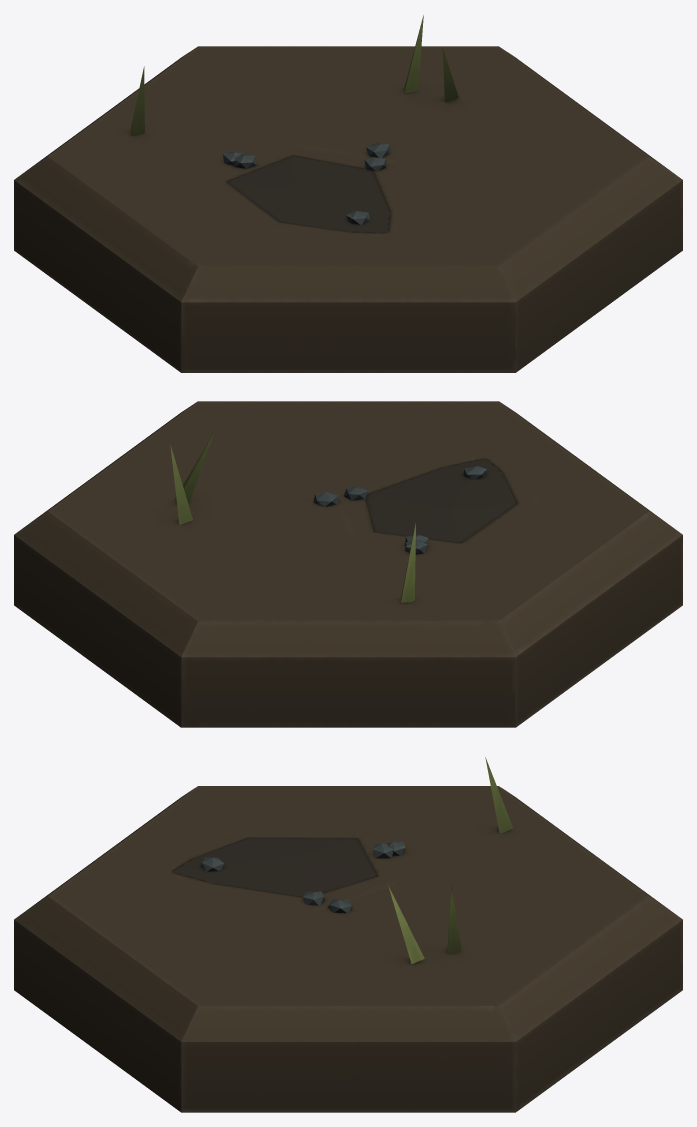
File: tile_hex_mud_c.glb
3 views of the same model, one above another, from view 1: azimuth 30°, elevation 25°; view 2: azimuth 150°, elevation 25°; view 3: azimuth 270°, elevation 25° (orthographic).
Parts seen in each view (by area): view 1: tile_hex_mud_c; view 2: tile_hex_mud_c; view 3: tile_hex_mud_c.
Part boxes in pixels (bbox=[...]): tile_hex_mud_c: bbox=[14, 15, 682, 372]; tile_hex_mud_c: bbox=[14, 401, 682, 727]; tile_hex_mud_c: bbox=[14, 757, 682, 1112].
Size of the model in its own units: 1.12 by 0.3568 by 1.29.
1 material, 1 textured.
